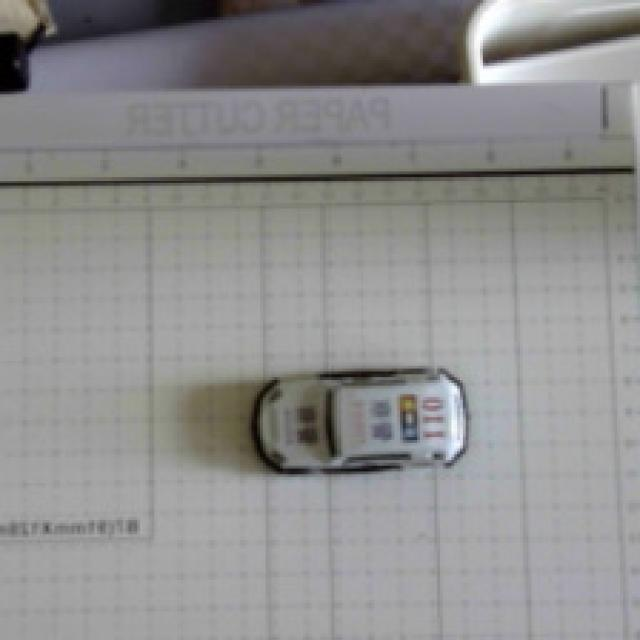Grey Car: (212, 346, 502, 502)
